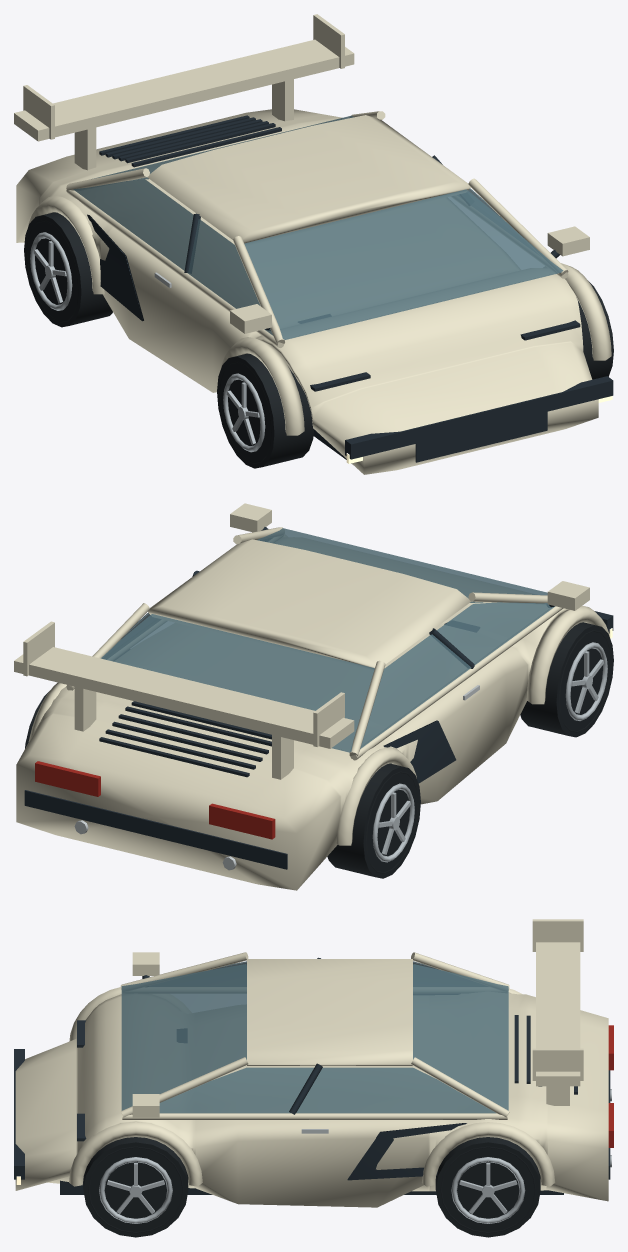
The model's file is cuneo.glb.
The picture shows the model from 3 angles, top to bottom: view 1: azimuth 30°, elevation 25°; view 2: azimuth 150°, elevation 25°; view 3: azimuth 270°, elevation 25°; orthographic projection. The views are drawn at different scales.
Parts seen in each view (by area): view 1: exterior-paint, windows, black-trim, tire-front-left, tire-rear-left, rim-rear-left, rim-front-left, tire-front-right; view 2: exterior-paint, windows, black-trim, tire-front-left, tire-rear-left, taillights, rim-rear-left, rim-front-left; view 3: exterior-paint, windows, tire-rear-right, tire-front-right, black-trim, rim-rear-right, rim-front-right, taillights.
Part boxes in pixels (bbox=[...]): exterior-paint: bbox=[14, 14, 611, 474]; windows: bbox=[73, 115, 563, 339]; black-trim: bbox=[87, 115, 613, 463]; tire-front-left: bbox=[217, 353, 313, 468]; tire-rear-left: bbox=[24, 212, 112, 327]; rim-rear-left: bbox=[30, 232, 72, 310]; rim-front-left: bbox=[223, 373, 265, 452]; tire-front-right: bbox=[576, 281, 613, 379]; exterior-paint: bbox=[14, 503, 609, 890]; windows: bbox=[101, 528, 554, 752]; black-trim: bbox=[24, 527, 613, 869]; tire-front-left: bbox=[520, 622, 613, 737]; tire-rear-left: bbox=[327, 763, 420, 878]; taillights: bbox=[35, 761, 275, 839]; rim-rear-left: bbox=[372, 783, 414, 862]; rim-front-left: bbox=[565, 642, 607, 720]; exterior-paint: bbox=[15, 919, 608, 1207]; windows: bbox=[121, 961, 508, 1113]; tire-rear-right: bbox=[435, 1137, 540, 1237]; tire-front-right: bbox=[83, 1137, 188, 1237]; black-trim: bbox=[14, 957, 610, 1194]; rim-rear-right: bbox=[451, 1157, 525, 1223]; rim-front-right: bbox=[99, 1157, 172, 1223]; taillights: bbox=[608, 1025, 613, 1147].
Size of the model in its own units: 2.17 by 1.15 by 3.54.
